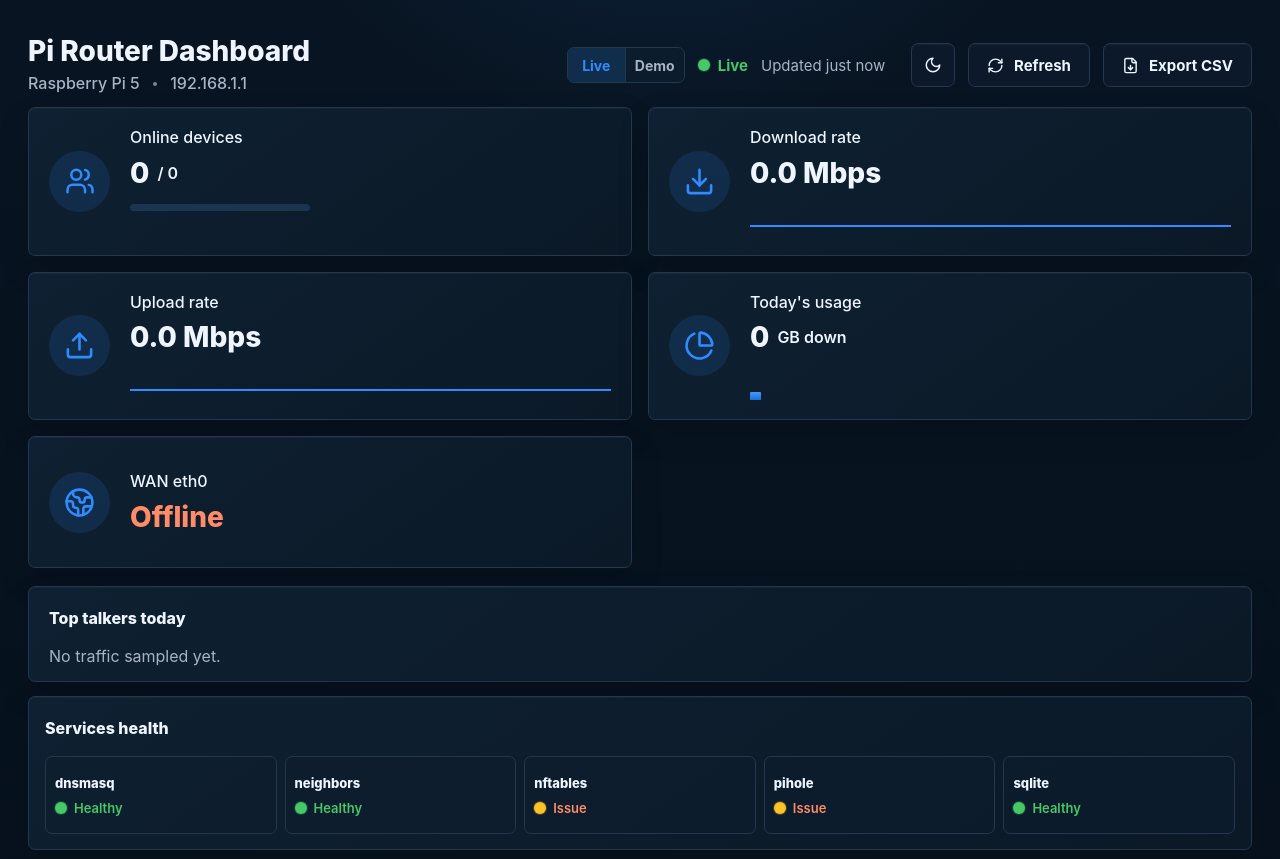
Test case: App › switches to demo data from the dashboard toggle
Click the button "Demo": (655, 65) [626, 48, 684, 82]
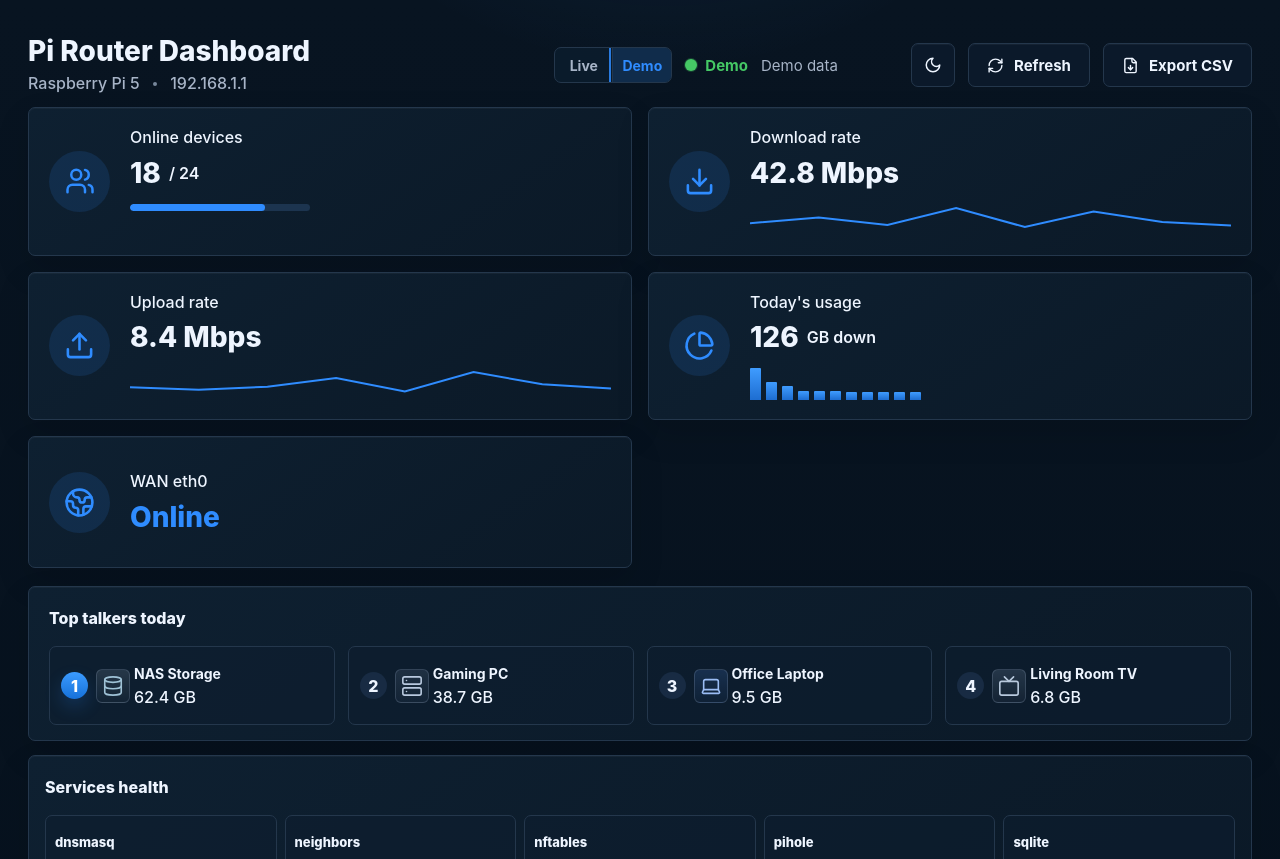
Check: the text "Living Room TV" is shown, box [1030, 665, 1137, 682]
Check: the text "Demo data" is shown, box [761, 56, 838, 74]
